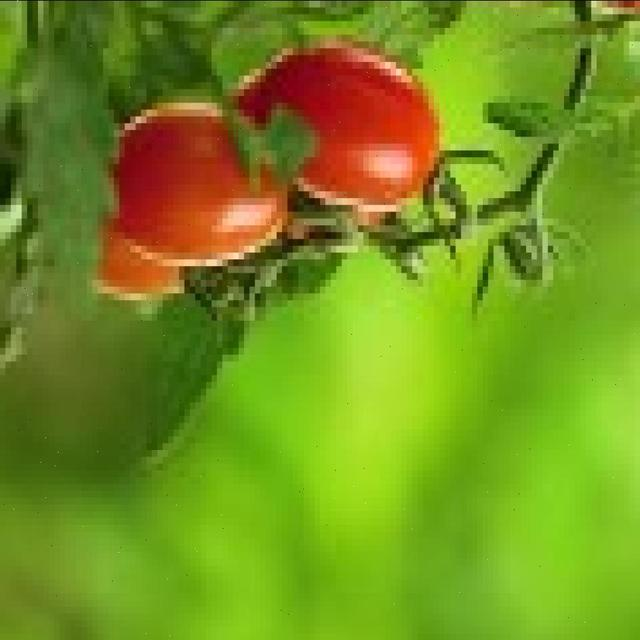Healthy Fruit: (122, 78, 236, 133)
